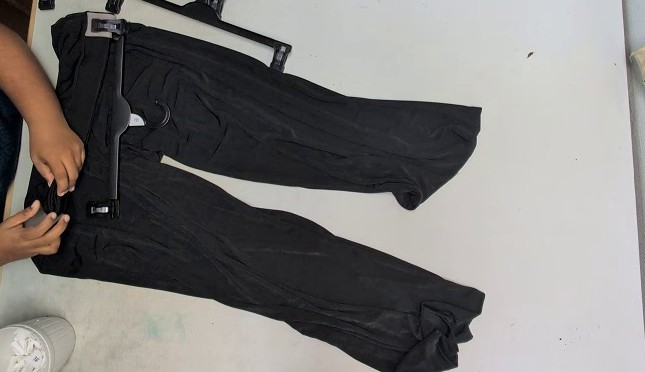TROUSER: (140, 9, 529, 363)
